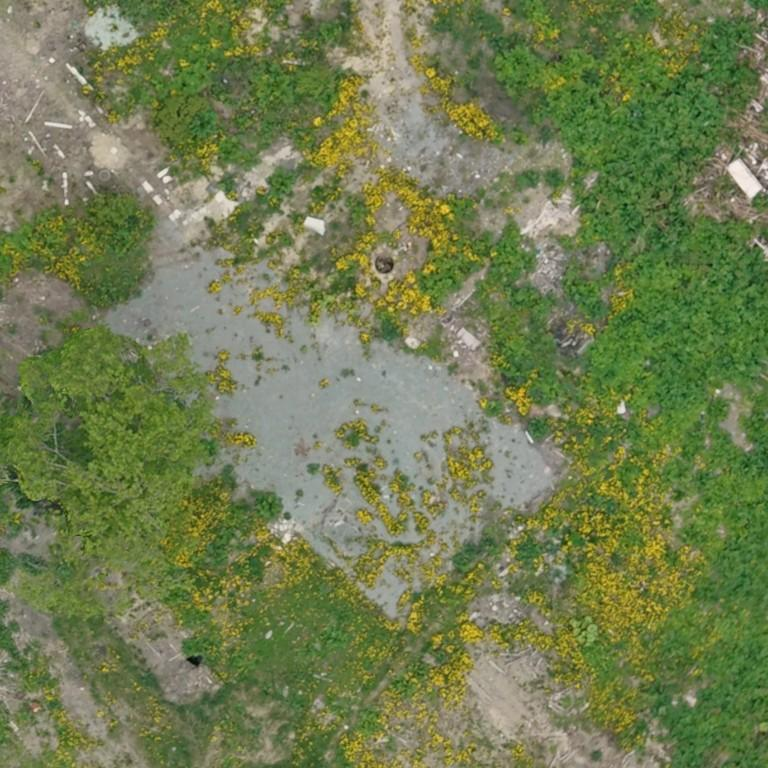hogweed: (495, 21, 754, 254), (591, 213, 767, 408), (655, 643, 767, 767), (715, 496, 767, 600), (714, 394, 767, 477), (565, 273, 605, 321), (492, 227, 518, 278), (267, 65, 293, 103), (268, 170, 294, 197), (190, 112, 218, 134), (254, 495, 282, 516), (452, 545, 474, 568), (518, 543, 537, 562)
